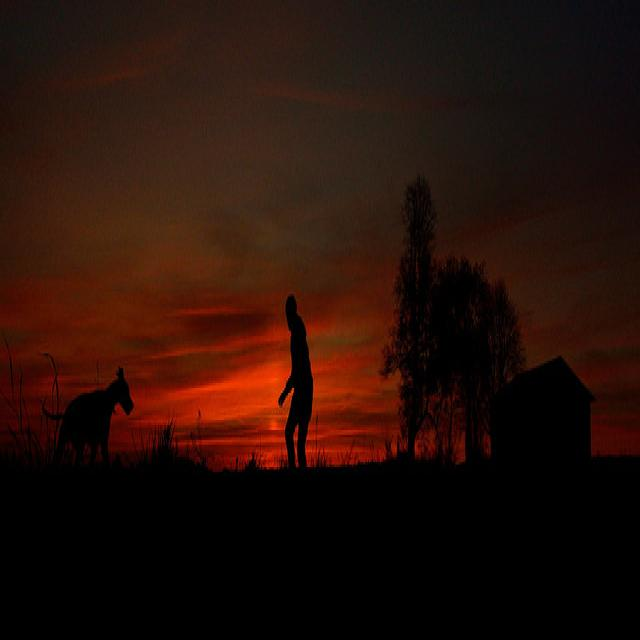Dog: (52, 316, 156, 510)
